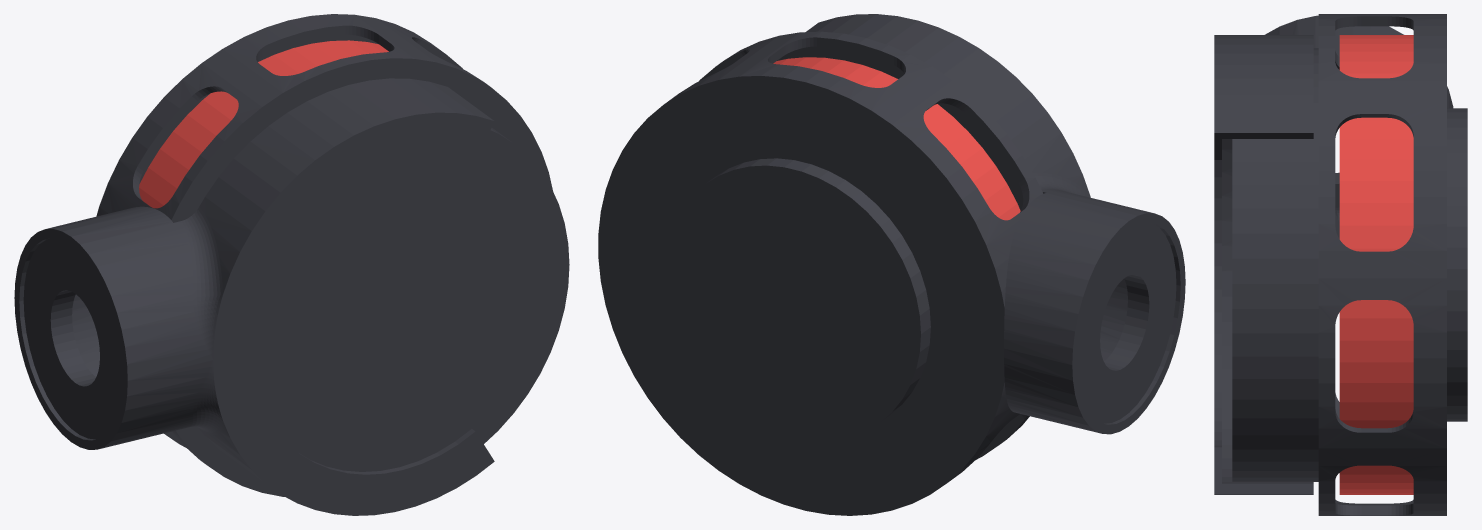
The model's file is bp_abad2.dae.
3 views of the same model, side by side, from view 1: azimuth 30°, elevation 25°; view 2: azimuth 150°, elevation 25°; view 3: azimuth 270°, elevation 25° (orthographic). The views are drawn at different scales.
Parts seen in each view (by area): view 1: ABAD2HIP; view 2: ABAD2HIP; view 3: ABAD2HIP.
Boxes of the visible parts, <box> form: ABAD2HIP: <box>14,14,569,515</box>; ABAD2HIP: <box>598,14,1185,515</box>; ABAD2HIP: <box>1214,14,1467,515</box>.
Bounding box in the file's own units: 0.1119 × 0.0485 × 0.096.
1 material, 1 textured.
